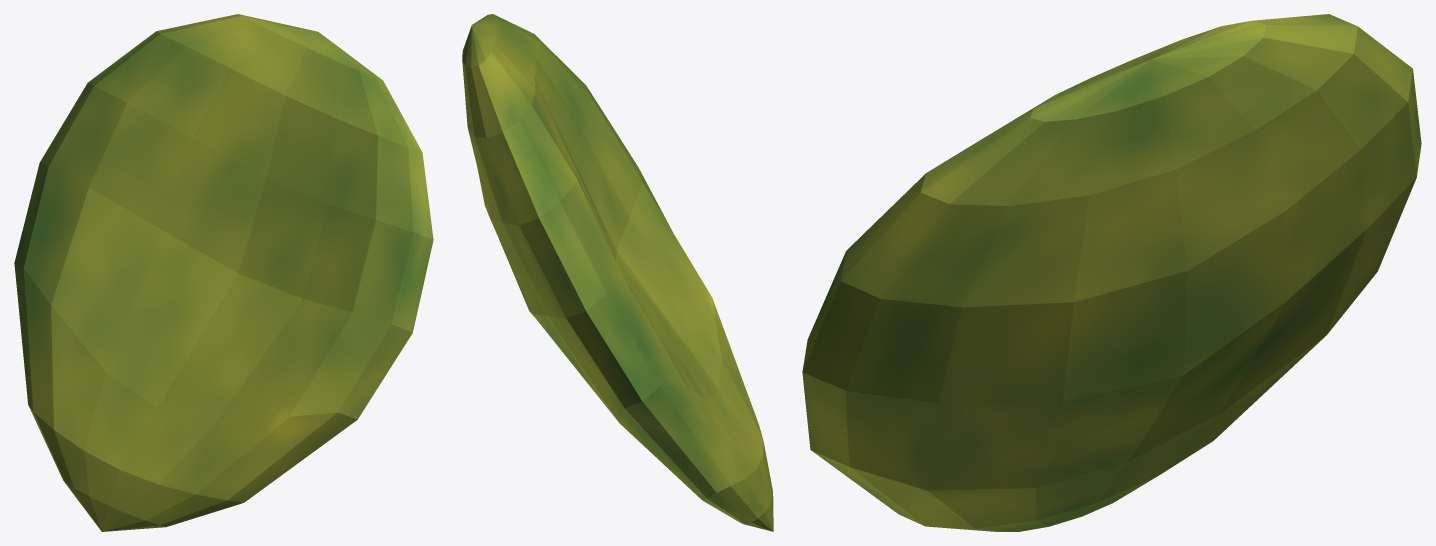
File: lisc01.fbx
The picture shows the model from 3 angles, left to right: view 1: azimuth 30°, elevation 25°; view 2: azimuth 150°, elevation 25°; view 3: azimuth 270°, elevation 25°; orthographic projection. The views are drawn at different scales.
Parts seen in each view (by area): view 1: Sphere; view 2: Sphere; view 3: Sphere.
Part boxes in pixels (left/top/right/bottom): Sphere: left=14, top=14, right=433, bottom=531; Sphere: left=462, top=14, right=773, bottom=531; Sphere: left=802, top=14, right=1421, bottom=531.
Size of the model in its own units: 149 by 205 by 177.
Materials: 1 (1 with a texture image).
